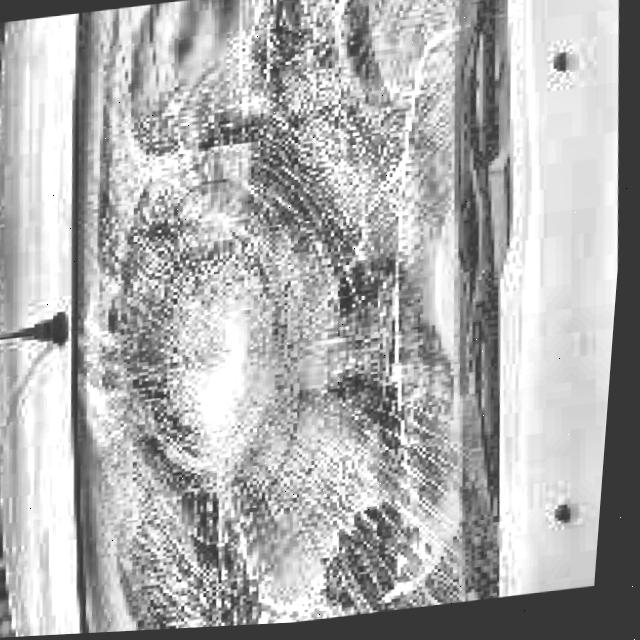glass_shatter: (118, 268, 304, 506)
